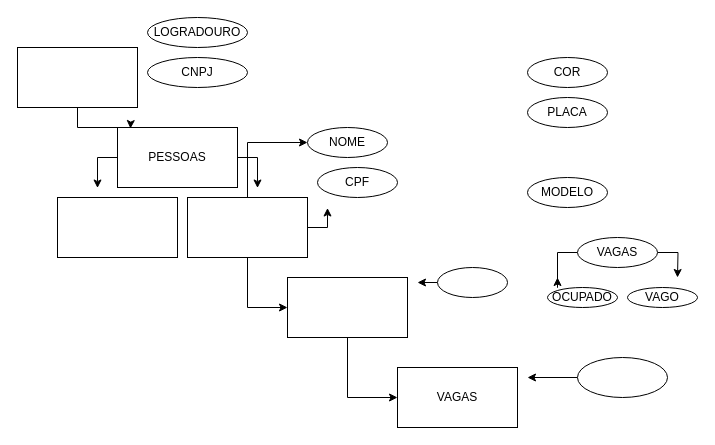
This 715x445 diagram has some shape labels left out. The shapes that lost their labels are listed below. From the top down, each one's box as (x1, y1, x2, y2) in pixels, then its label:
(16, 46, 138, 108): EMPRESA
(56, 196, 178, 258): MANOBRISTA
(186, 196, 308, 258): CLIENTE
(286, 276, 408, 338): VEÍCULO
